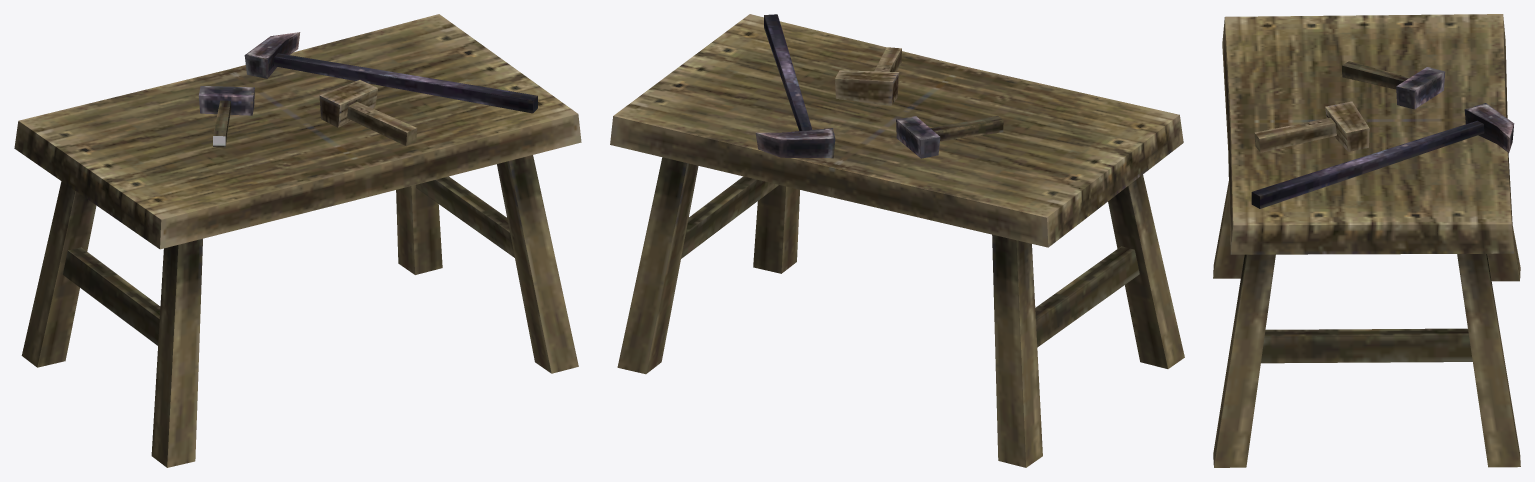
Rendered from OZ_20_hy_tabl01B.glb.
3 renders of one model, left to right at view 1: azimuth 30°, elevation 25°; view 2: azimuth 150°, elevation 25°; view 3: azimuth 270°, elevation 25°, orthographic.
Visible parts, largest first — view 1: OM_20_hy_tabl01B; view 2: OM_20_hy_tabl01B; view 3: OM_20_hy_tabl01B.
Boxes of the visible parts, x1,y1,x2,y2 form: OM_20_hy_tabl01B: (14,14,581,467); OM_20_hy_tabl01B: (610,14,1184,467); OM_20_hy_tabl01B: (1213,14,1520,467).
Bounding box in the file's own units: 1.41 × 0.8367 × 0.8562.
Materials: 1 (1 with a texture image).
